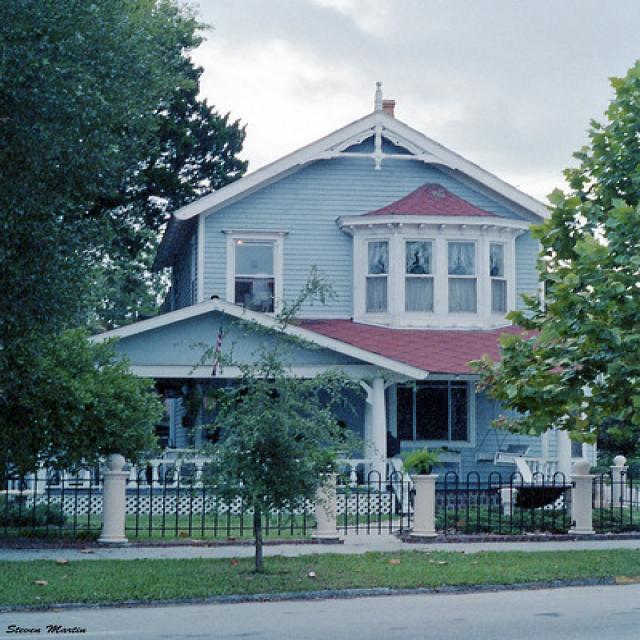Normal_building: (76, 102, 596, 532)
